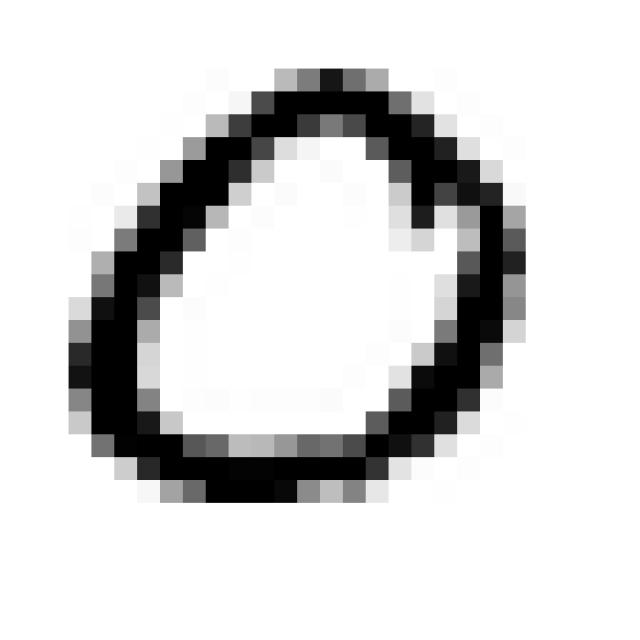5 -five-: (53, 57, 543, 517)
